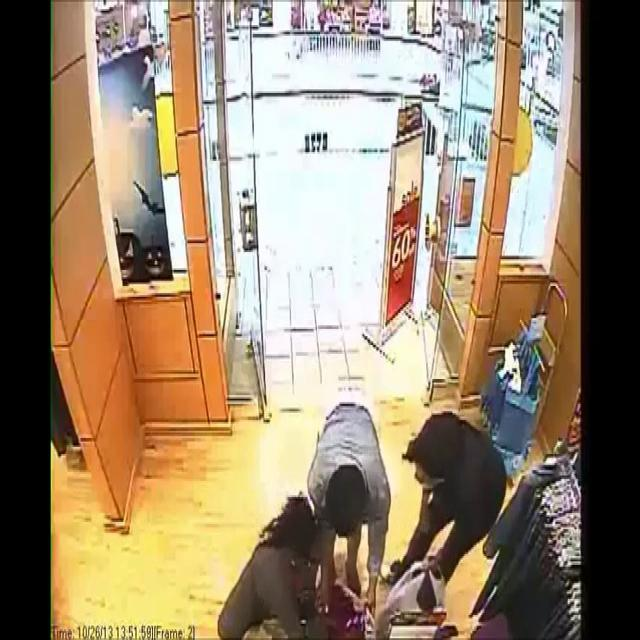normal: (227, 476, 333, 640), (295, 388, 393, 540)
shoplifting: (392, 393, 504, 615)
